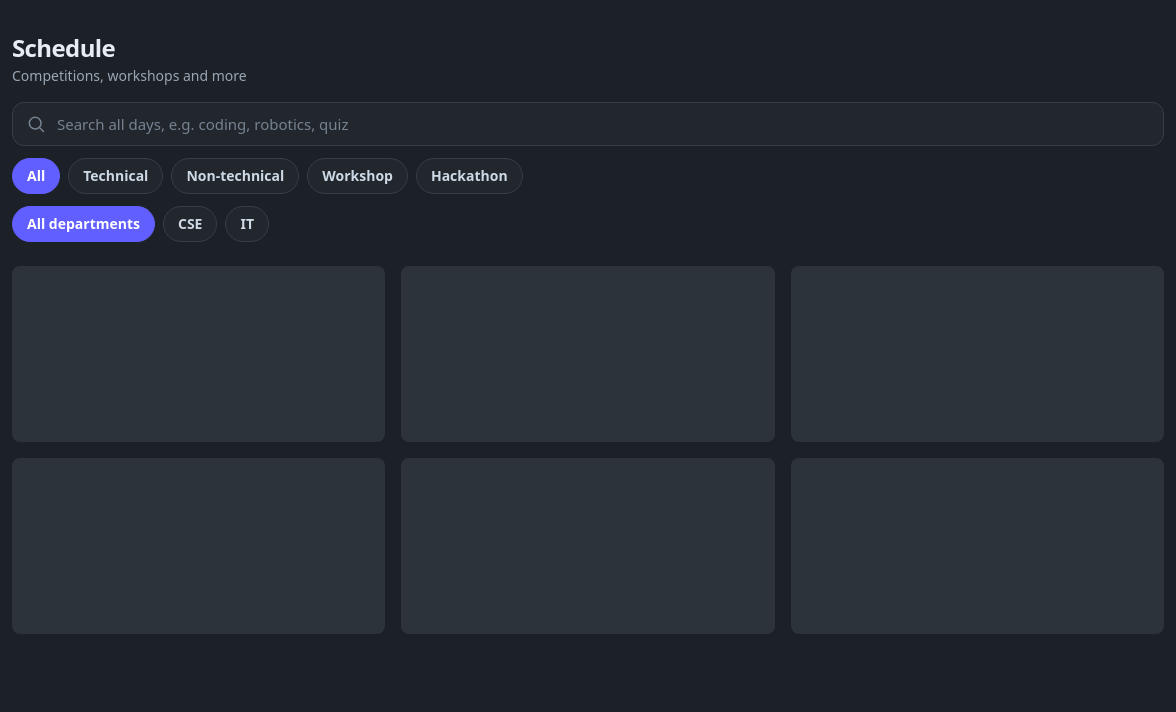
Test: EventCatalog › a slow answer for an old filter never replaces the current results
Chips render before the first answer arrives (no counts yet).
Step 1. Click the button "Workshop" → (358, 176), box [307,158,408,194]
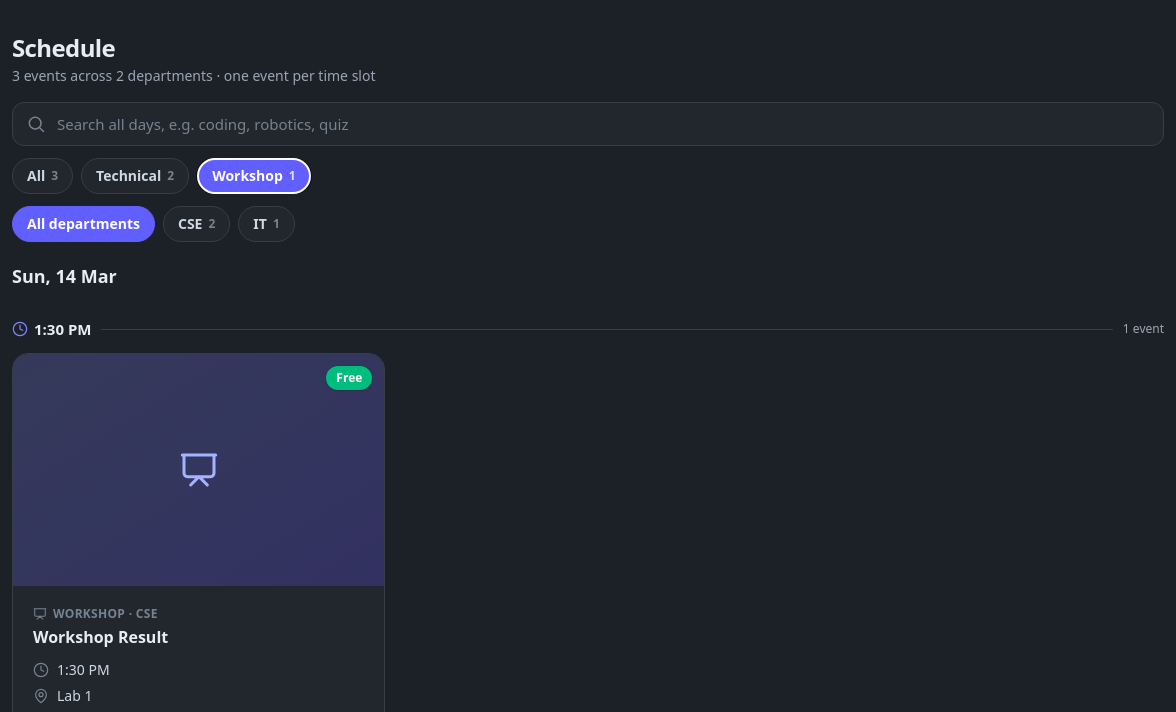
Now the heading "Workshop Result" is shown, box [33,626,168,648]
